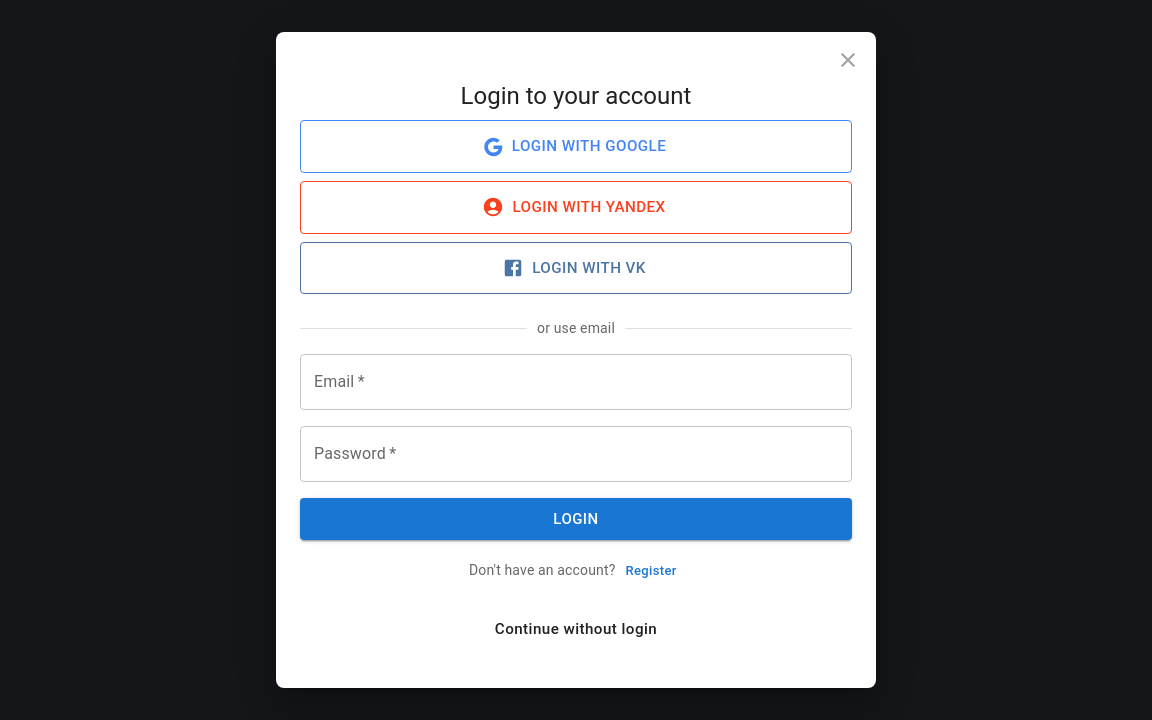
Test case: AuthModal › Login Mode › handles login error
Type "test@example.com" into the field labelled "Email *". click: x=576, y=382
box: top-left (300, 354), bottom-right (852, 410)
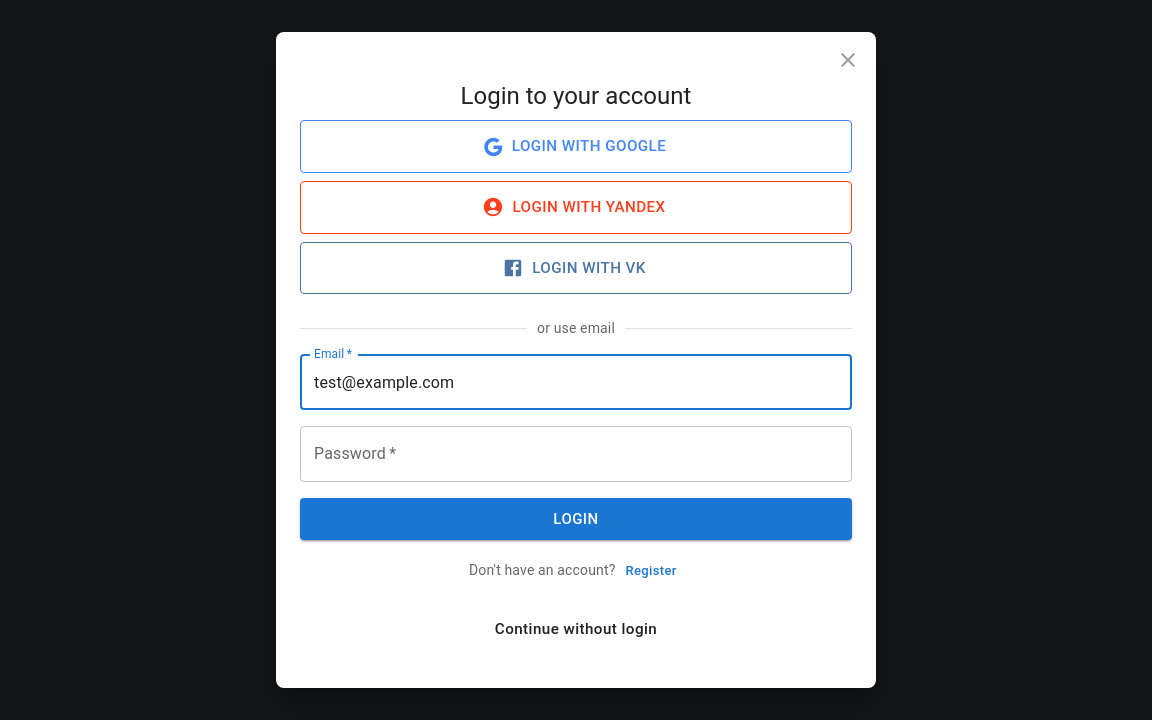
Type "wrongPassword123" into the password field with id "login-password". click: x=576, y=454
box: top-left (300, 426), bottom-right (852, 482)
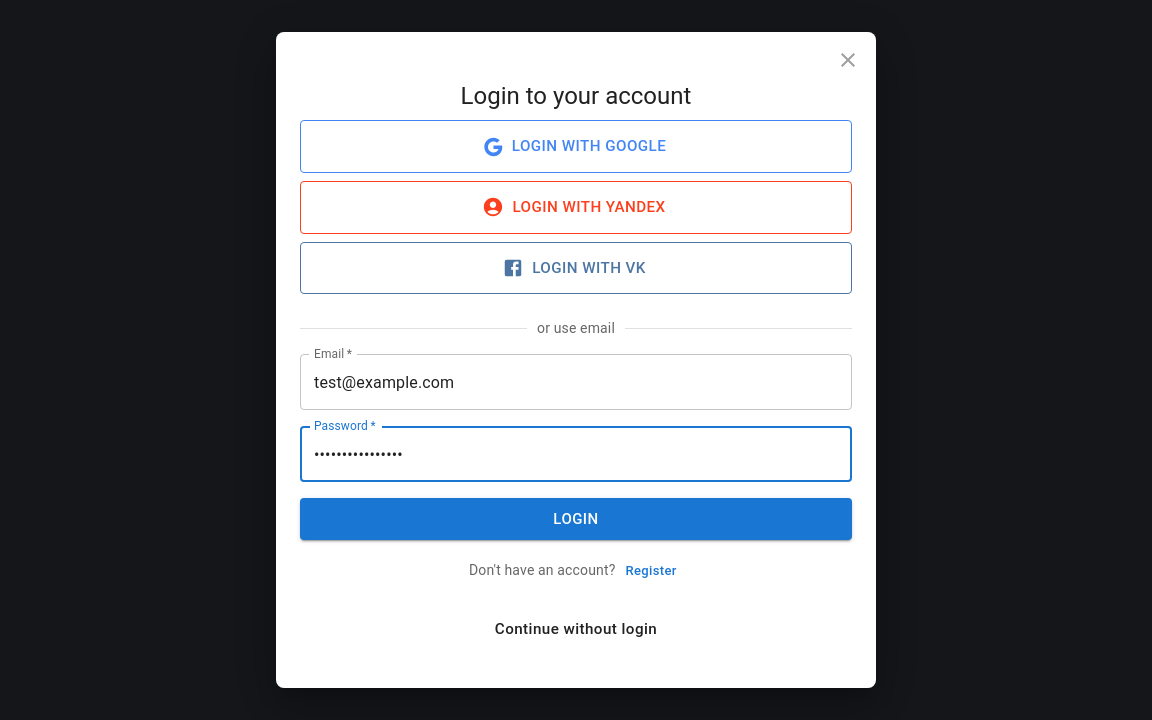
Click the button "Login". click: x=576, y=519
box: top-left (300, 498), bottom-right (852, 540)
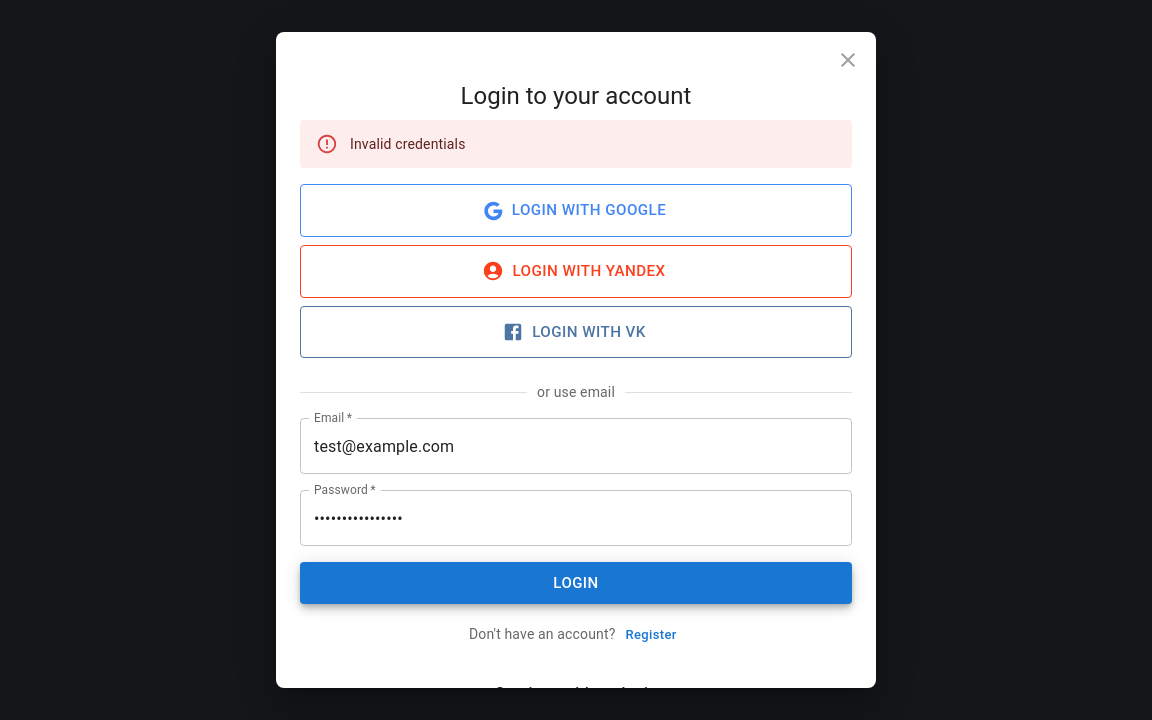
Result: the text "Invalid credentials" is shown at top-left (350, 136), bottom-right (466, 152)
